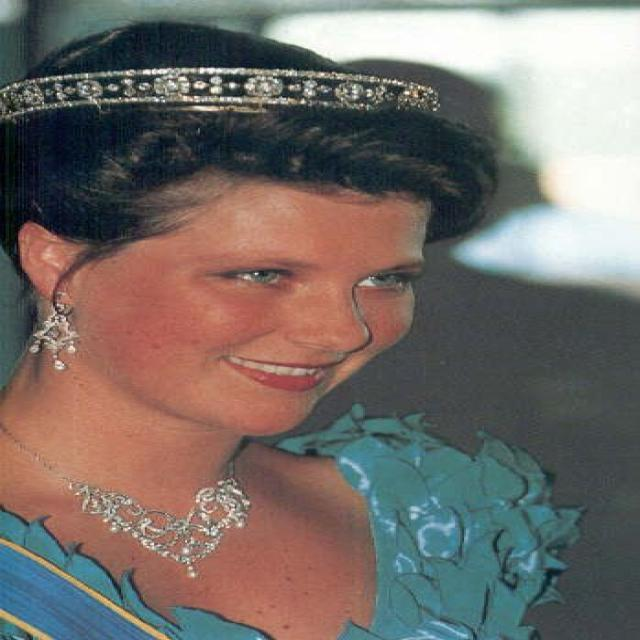Earring: (28, 281, 83, 382)
